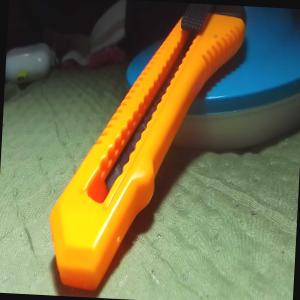estilete: (43, 0, 245, 298)
